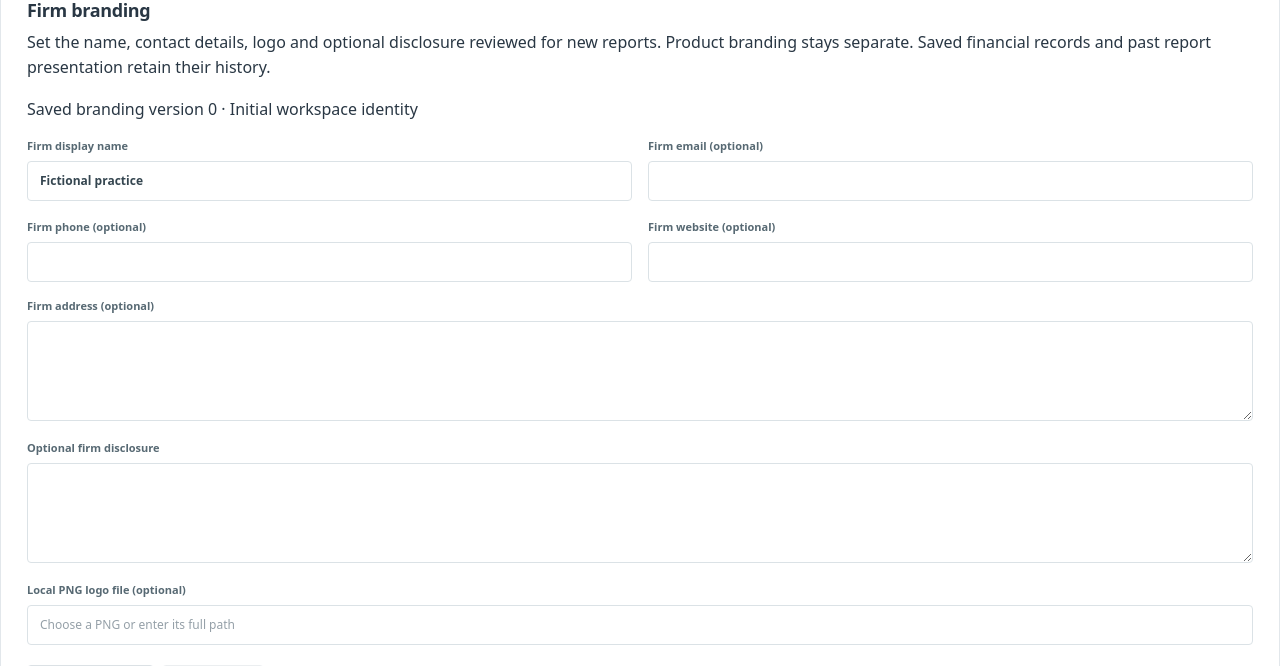
Test case: saves explicit firm details at the expected revision and updates the workspace name
Step 1. Replace the text in the field labelled "Firm display name" with "Fictional Oak Counseling" → coordinates (330, 181), box left=27, top=161, right=632, bottom=201
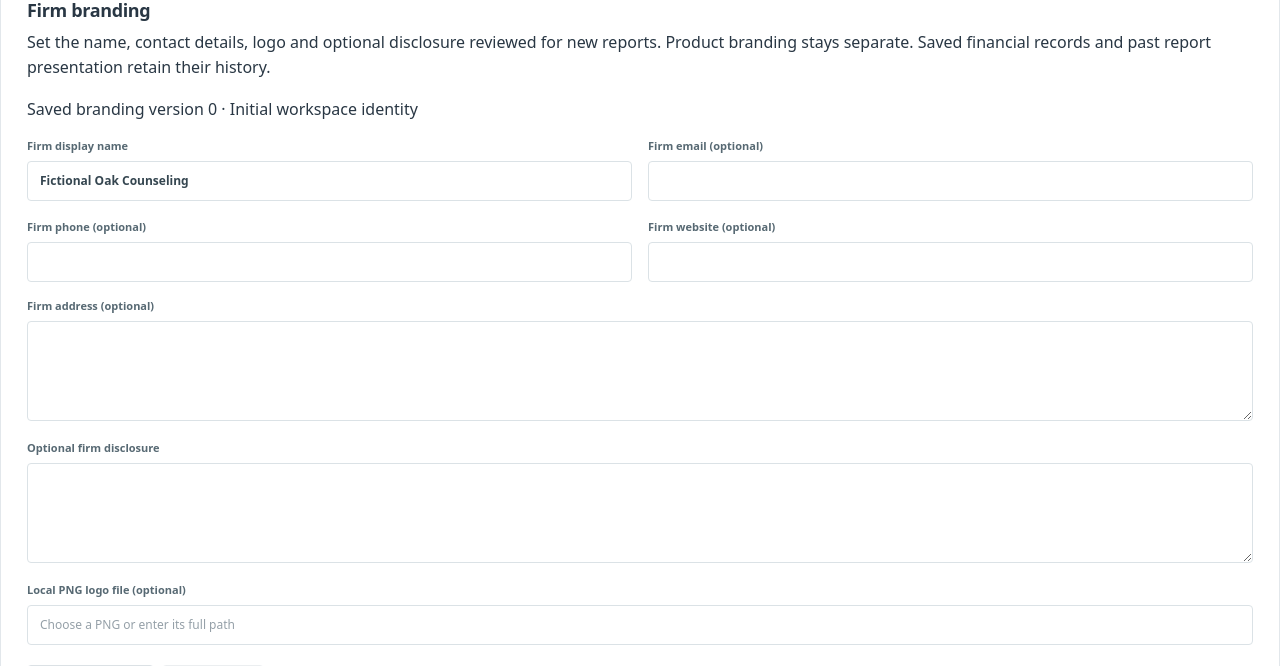
Step 2. Type "office@example.invalid" into the field labelled "Firm email (optional)" → coordinates (950, 181), box left=648, top=161, right=1253, bottom=201
(page scrolled)
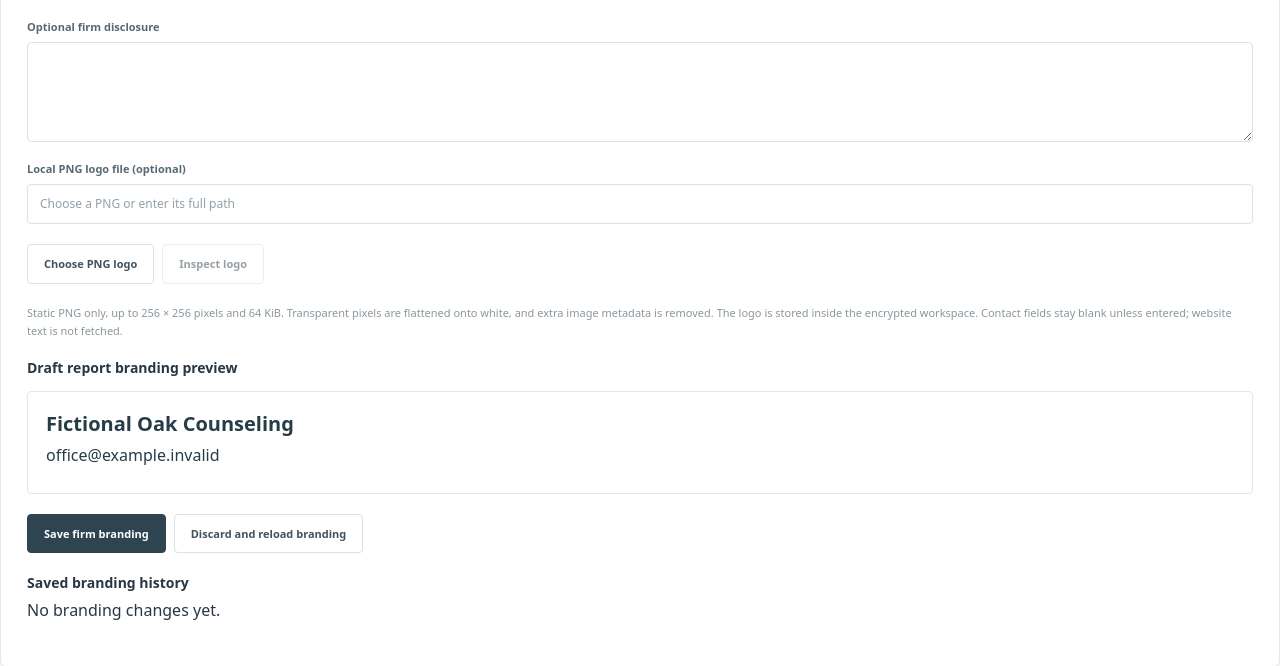
Step 3. Click the button "Save firm branding" → coordinates (96, 533), box left=27, top=514, right=166, bottom=553
(page scrolled)
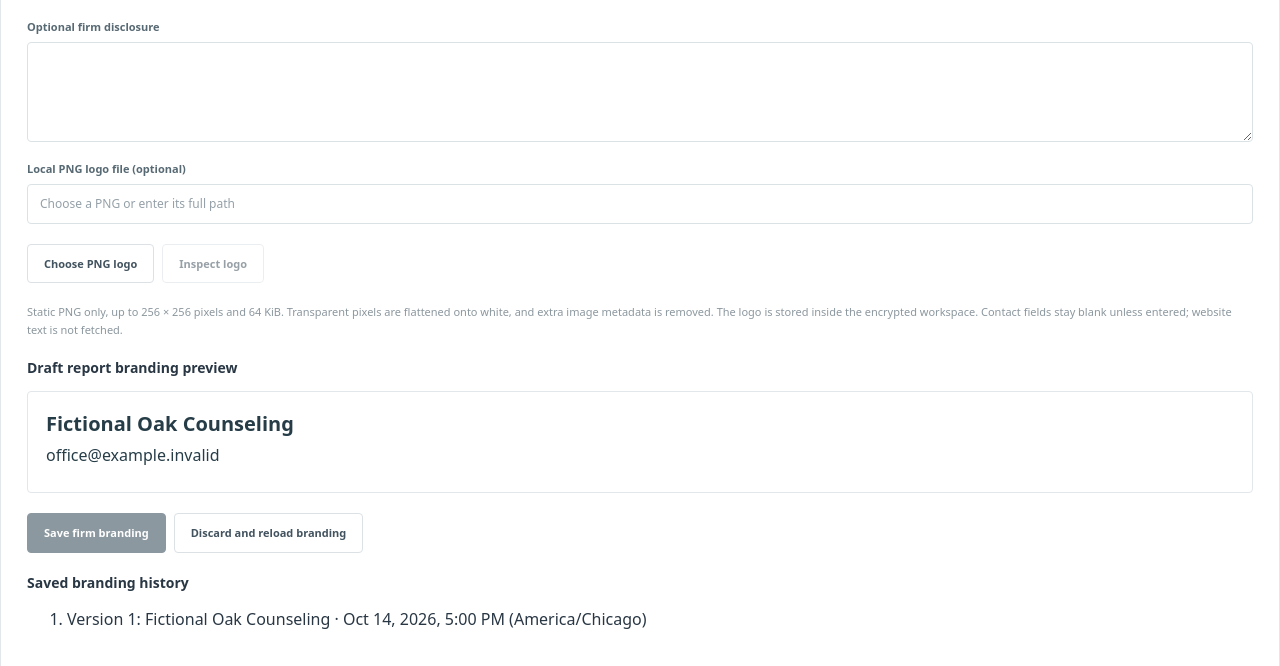
expect the list item "Version 1: Fictional Oak" shows "America/Chicago": met, box left=505, top=608, right=647, bottom=630
